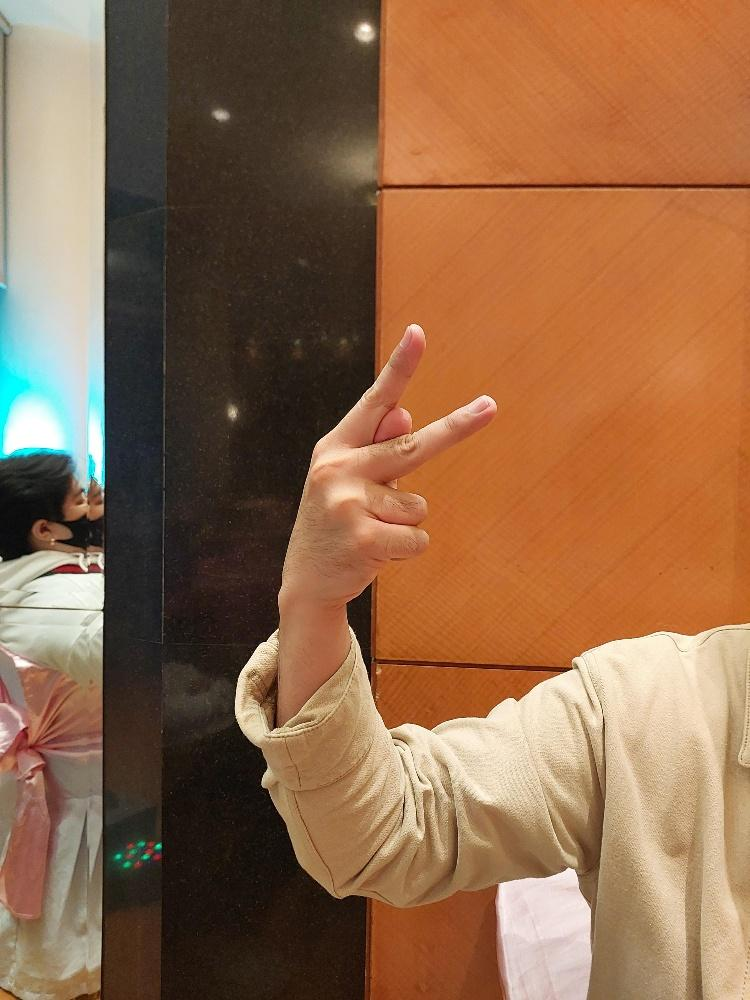k: (276, 321, 498, 607)
